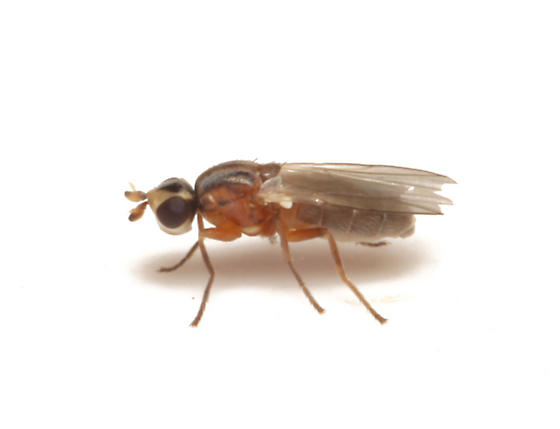Chloropidae: (121, 156, 454, 325)
